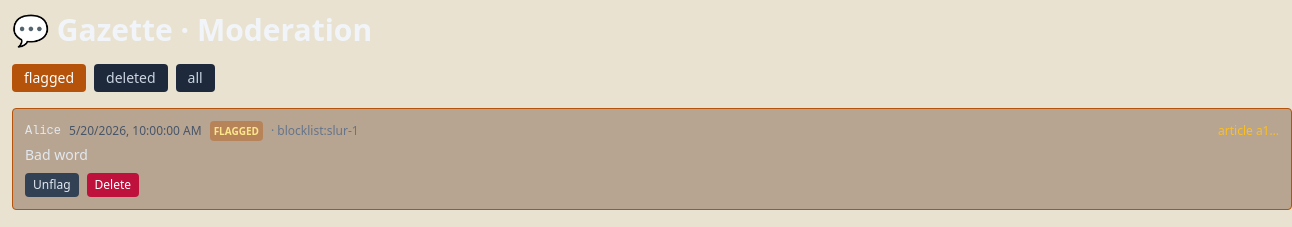
AdminGazetteCommentsPage › change de filter et reload
Expected: the list with test id "admin-comments-list" is shown, [12,108,1291,210]
Click the button with test id "admin-filter-deleted". click: (131, 78)
box: [94,64,168,92]
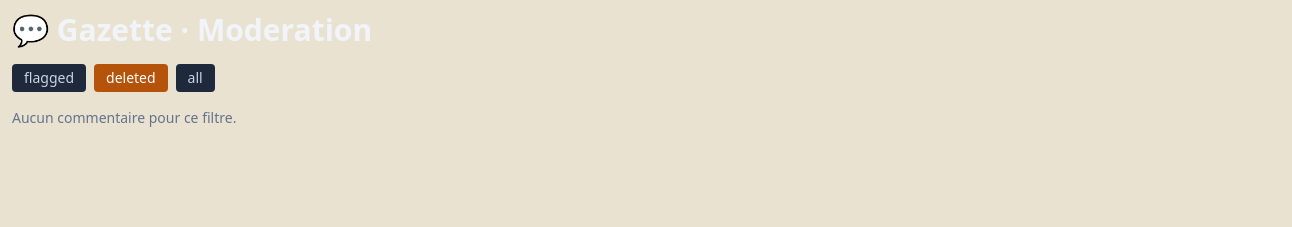
Expected: the text "Aucun commentaire pour ce filtre." is shown, [12,108,236,127]
